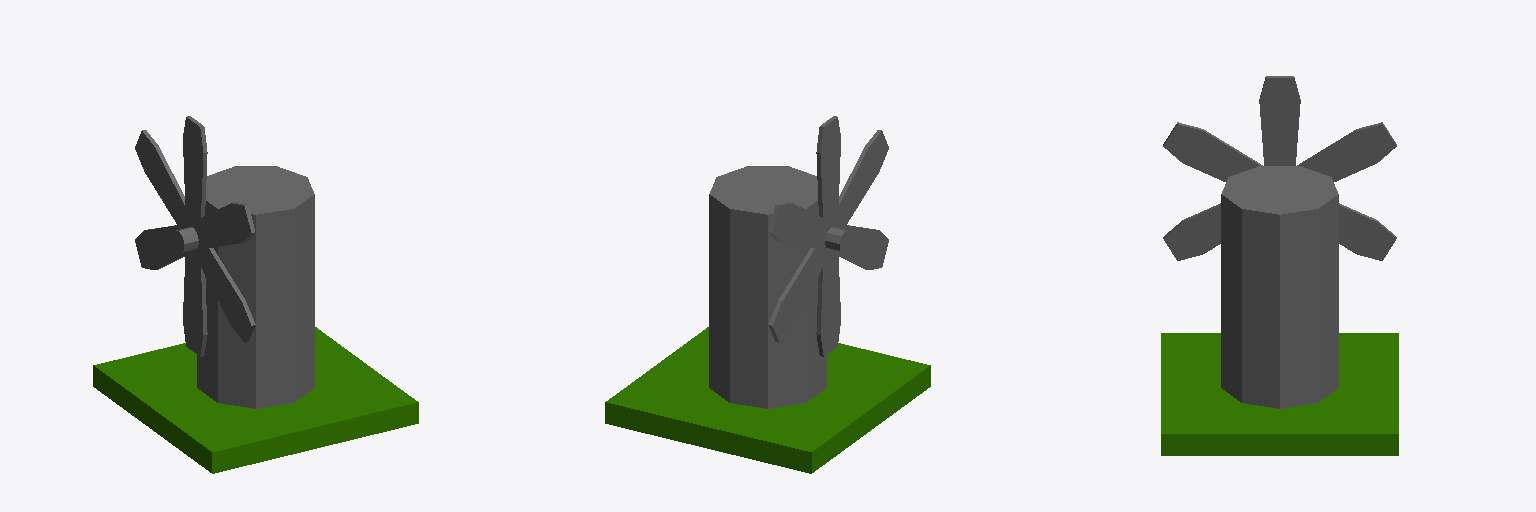
Rendered from Farm3.obj.
3 renders of one model, left to right at view 1: azimuth 30°, elevation 25°; view 2: azimuth 150°, elevation 25°; view 3: azimuth 270°, elevation 25°, orthographic.
Visible parts, largest first — view 1: Tilebase110, Cylinder044, Box713, Box711, Box710, Box714, Box712, Box709, Cylinder045; view 2: Tilebase110, Cylinder044, Box713, Box709, Box710, Box712, Box714, Box711, Cylinder045; view 3: Cylinder044, Tilebase110, Box713, Box712, Box714, Box711, Box709.
Part boxes in pixels (x1,y1,x2,y2): Tilebase110: (93, 327, 418, 473); Cylinder044: (197, 166, 314, 408); Box713: (183, 116, 207, 234); Box711: (198, 235, 255, 342); Box710: (183, 248, 207, 356); Box714: (135, 130, 188, 228); Box712: (197, 202, 255, 248); Box709: (135, 224, 186, 269); Cylinder045: (173, 227, 198, 252); Tilebase110: (605, 327, 930, 473); Cylinder044: (709, 166, 826, 408); Box713: (816, 116, 840, 234); Box709: (768, 235, 825, 342); Box710: (816, 248, 840, 356); Box712: (835, 130, 888, 228); Box714: (768, 202, 826, 248); Box711: (837, 224, 888, 269); Cylinder045: (825, 227, 850, 252); Cylinder044: (1221, 166, 1338, 408); Tilebase110: (1161, 333, 1398, 455); Box713: (1259, 76, 1300, 165); Box712: (1163, 122, 1262, 181); Box714: (1297, 122, 1396, 181); Box711: (1163, 203, 1220, 260); Box709: (1339, 203, 1396, 260).
Size of the model in its own units: 10 by 13.85 by 10.